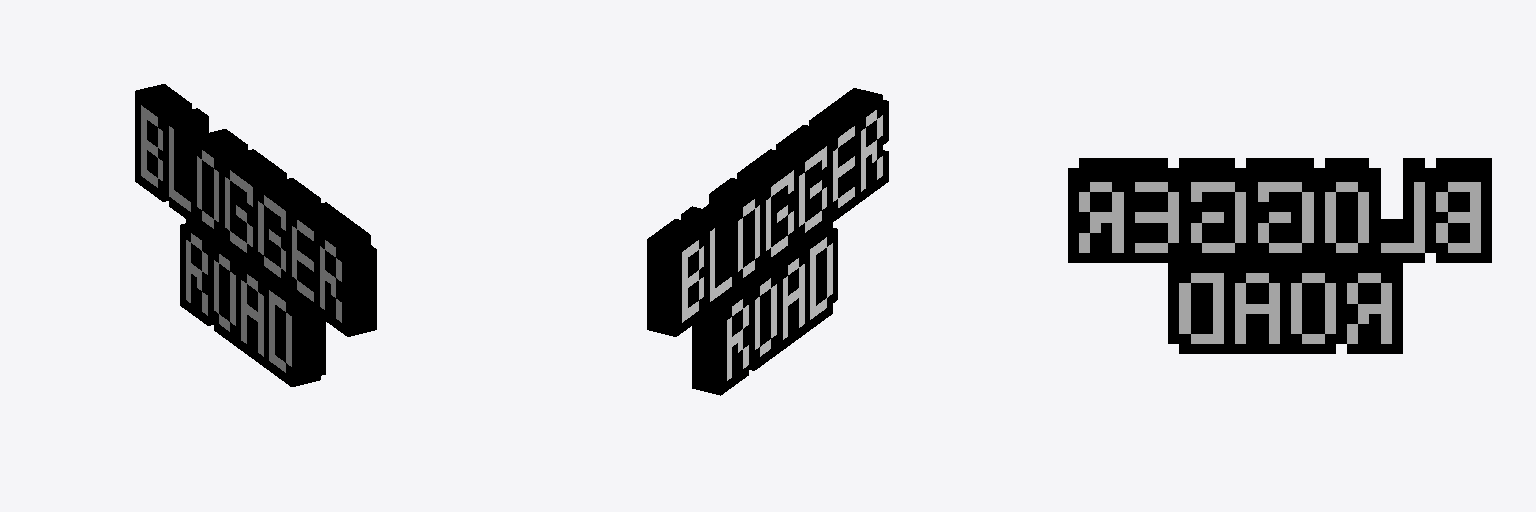
3 views of the same model, side by side, from view 1: azimuth 30°, elevation 25°; view 2: azimuth 150°, elevation 25°; view 3: azimuth 270°, elevation 25° (orthographic).
Bounding box in the file's own units: 3 × 18 × 38.
1 materials, 1 textured.